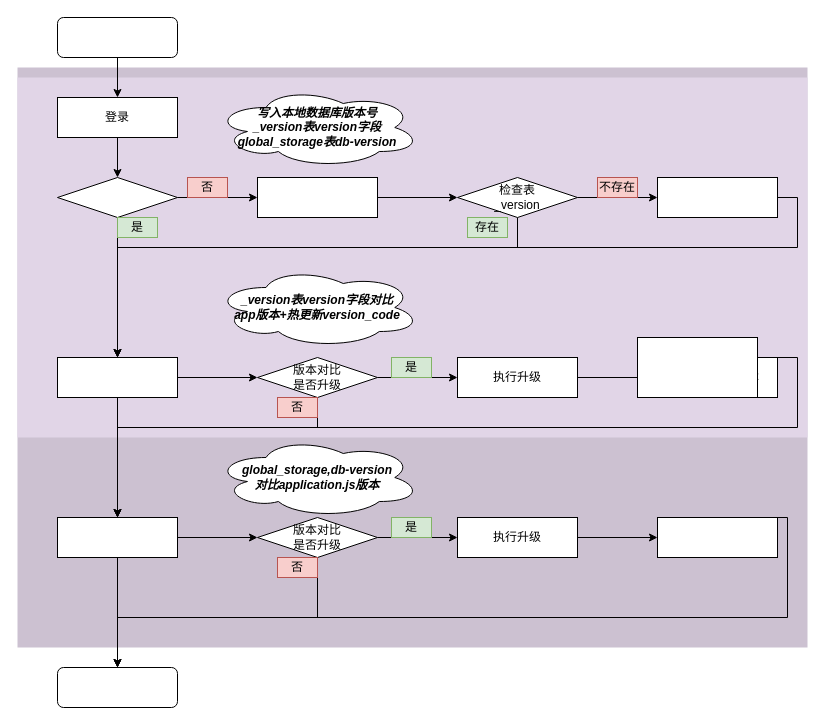
Image size: 824x725. Some labels were removed from this diagram. Here are the shapes that lost their labels. From the top down, the centre of each, then its label:
point 117,37: 启动应用
point 117,197: 检查DB
point 317,197: 创建数据库 template.db
point 717,197: 创建DB initSqlDB
point 117,377: 老DB升级
point 117,537: 新DB升级
point 717,537: 写入超级APP版本
point 117,687: 结束
